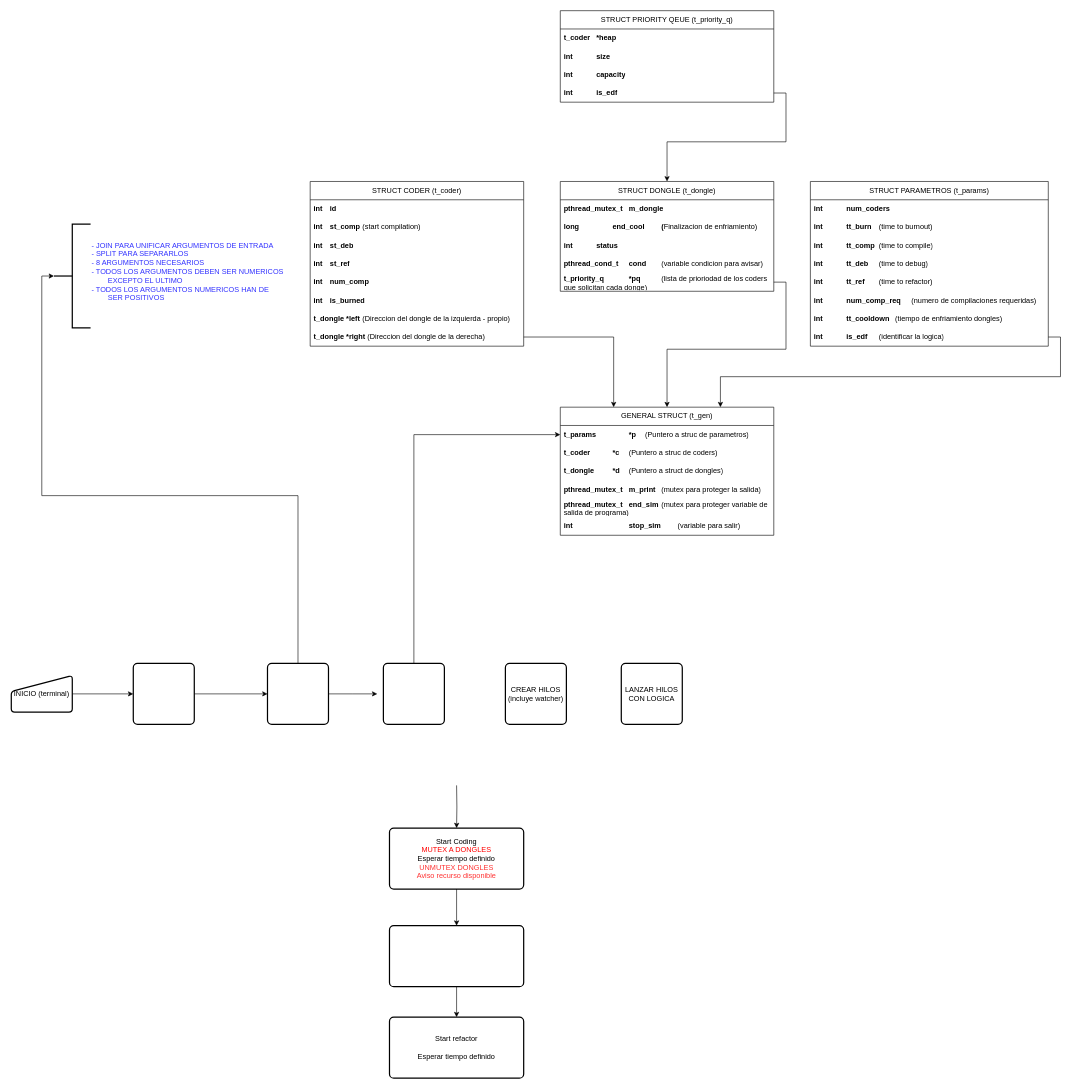
Image size: 1076x1089. Some labels were removed from this diagram. Here are the shapes that lost their labels. From the top down, the centre of each, then its label:
At (163,693): "START PROGRAM".
At (298,693): "INICIO PROCESO".
At (413,693): "INICIALIZAR DATOS".
At (456,956): "Start debuging Esperar tiempo definido".
